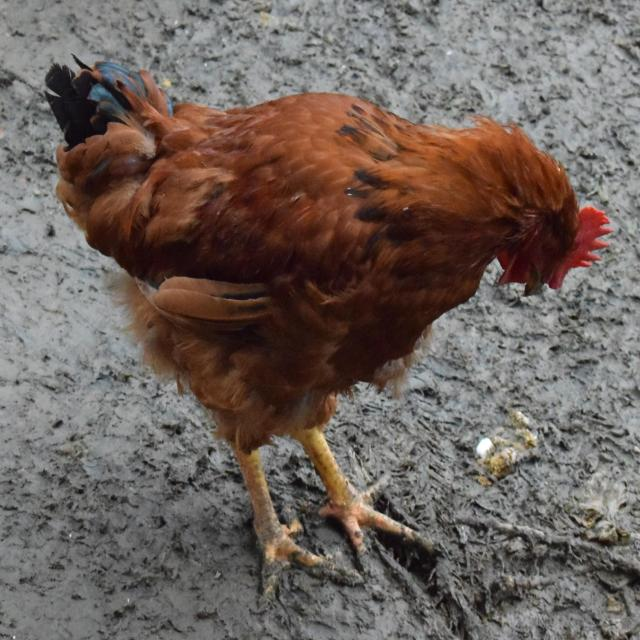cook: (0, 53, 624, 618)
